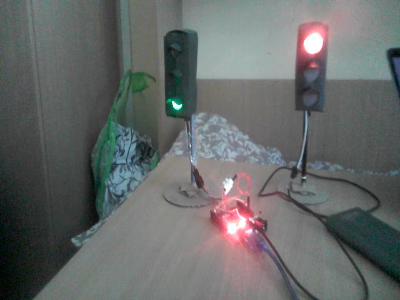trafficlight_green: (164, 32, 191, 118)
trafficlight_red: (296, 26, 328, 108)
